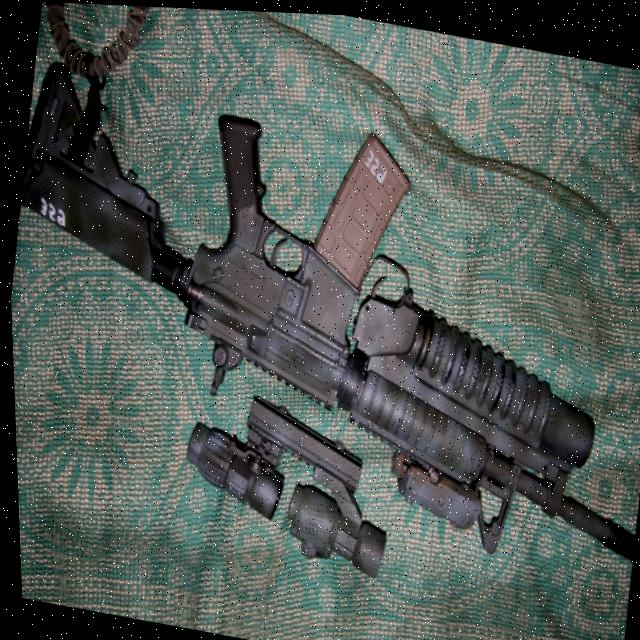firearm: (2, 53, 640, 582)
